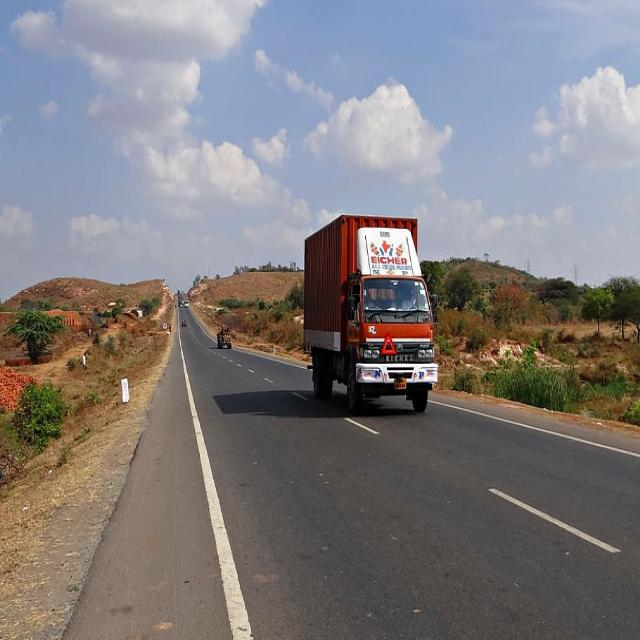truck: (304, 216, 439, 412)
